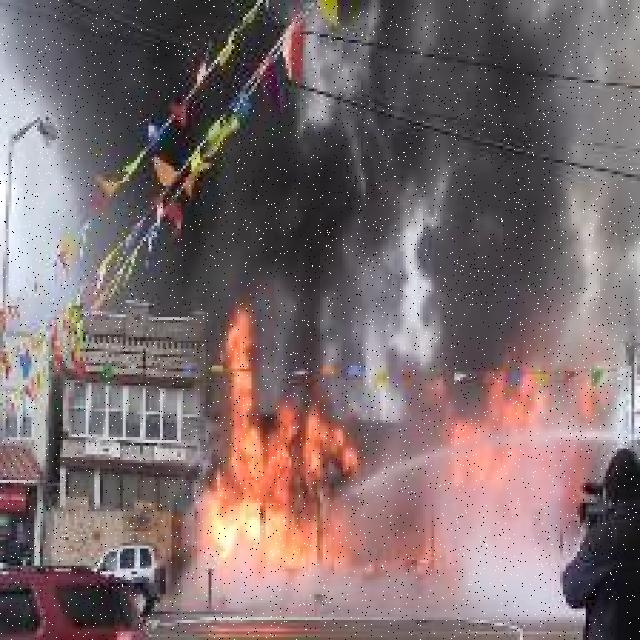fire: (194, 306, 366, 570), (447, 362, 574, 496)
smoke: (144, 45, 633, 312)
